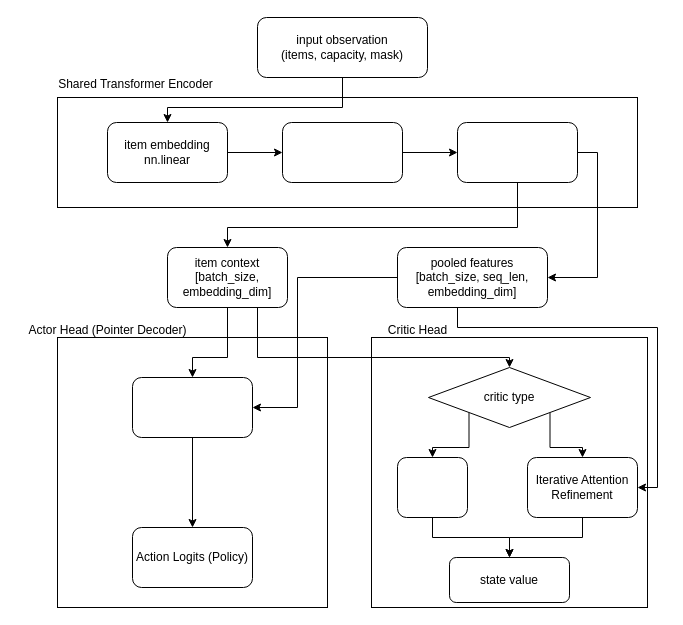
Image size: 683x625. Some labels were removed from this diagram. Here are the shapes that lost their labels. From the top down, the centre of each, then its label:
At pixel 342 152: "position encoding".
At pixel 517 152: "transformer blocks".
At pixel 192 407: "Pointer Attention".
At pixel 432 487: "MLP".
